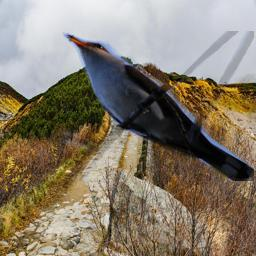Cuckoo: (62, 31, 254, 181)
